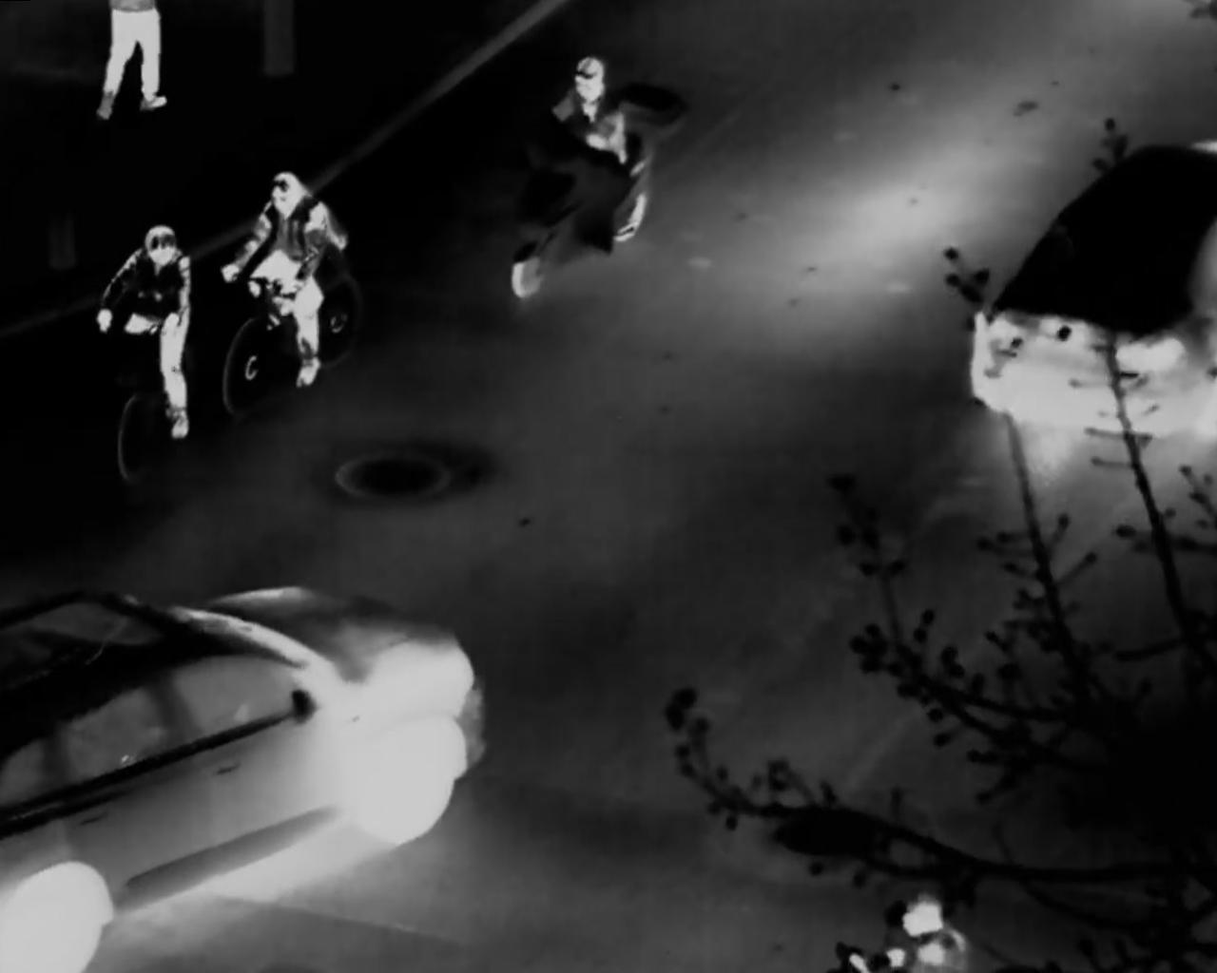person: (221, 172, 348, 386), (97, 222, 191, 437), (835, 893, 980, 973), (548, 55, 626, 169)
